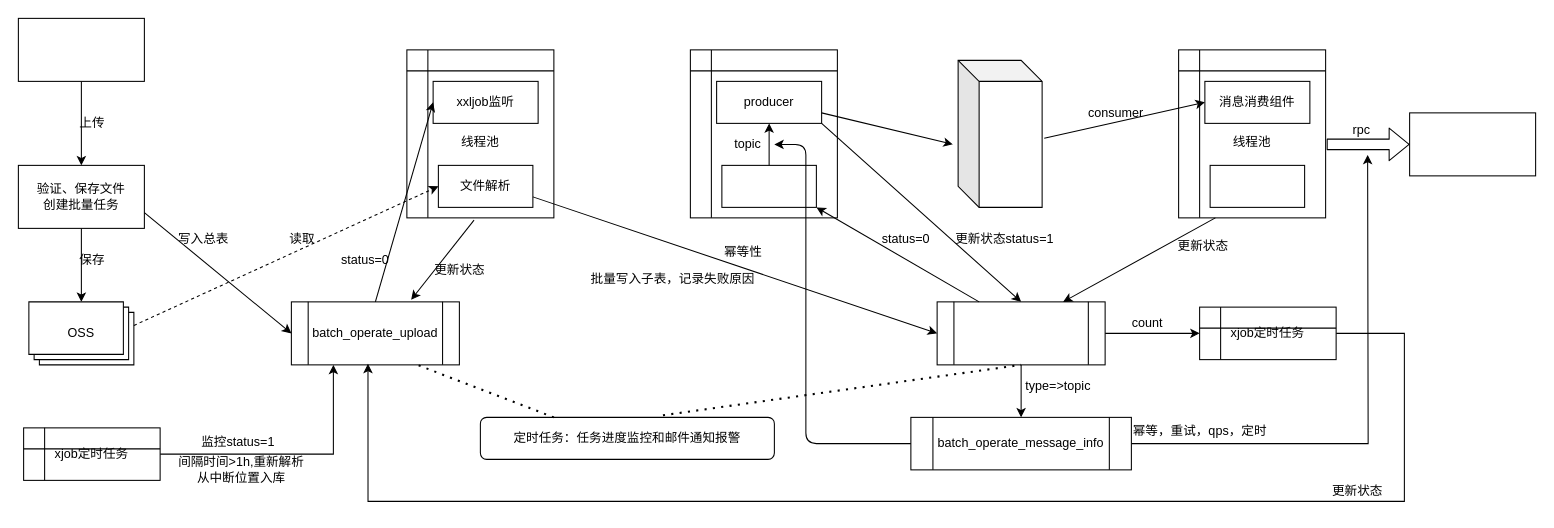
Image size: 1554x528. Some labels were removed from this diagram. The centre of each missing label's shape, as x and y in pixels:
1.审批流 2.批量操作: pixel 80 49
batch_xxx_xxx: pixel 1020 333
xjob监听: pixel 768 185
明细处理: pixel 1257 185
明细待处理消息队列: pixel 999 133
订单、学币等系统: pixel 1472 144
